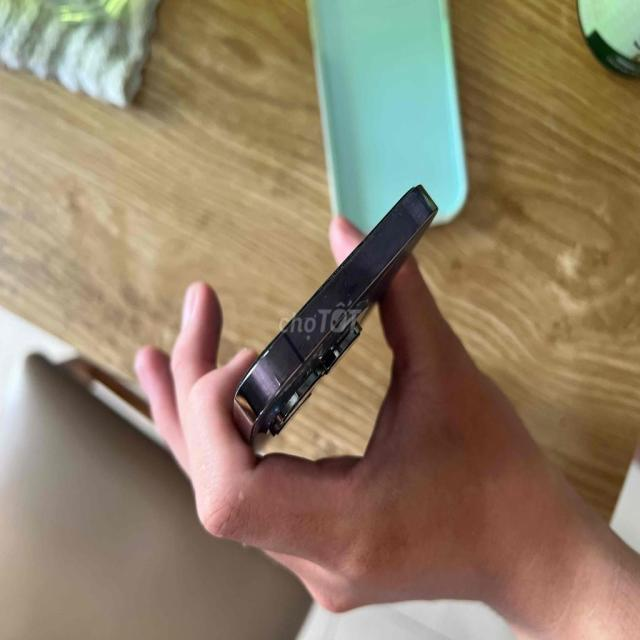gen_14: (215, 178, 447, 454)
